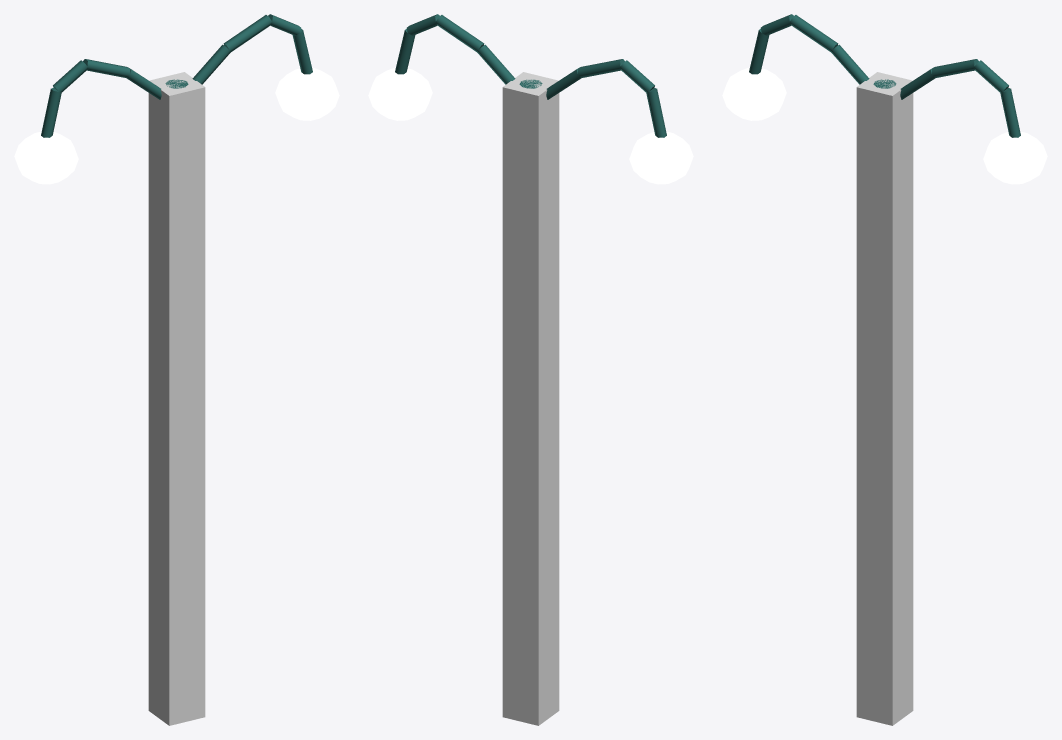
Rendered from farola_paseo.glb.
3 views of the same model, side by side, from view 1: azimuth 30°, elevation 25°; view 2: azimuth 150°, elevation 25°; view 3: azimuth 330°, elevation 25° (orthographic).
Visible parts, largest first — view 1: COL_0, farola_paseo_Malla; view 2: COL_0, farola_paseo_Malla; view 3: COL_0, farola_paseo_Malla.
Boxes of the visible parts, x1,y1,x2,y2 form: COL_0: (148, 72, 205, 725); farola_paseo_Malla: (14, 14, 339, 184); COL_0: (502, 72, 559, 725); farola_paseo_Malla: (368, 14, 693, 184); COL_0: (856, 72, 913, 725); farola_paseo_Malla: (722, 14, 1047, 184).
Size of the model in its own units: 3.16 by 6.44 by 0.5326.
